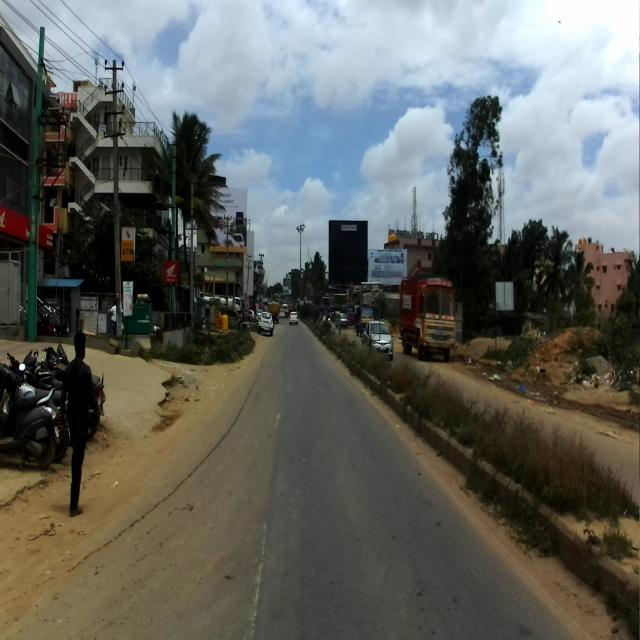Car_Renault: (258, 309, 274, 335)
scooter: (0, 362, 56, 468)
truck: (398, 272, 455, 362)
